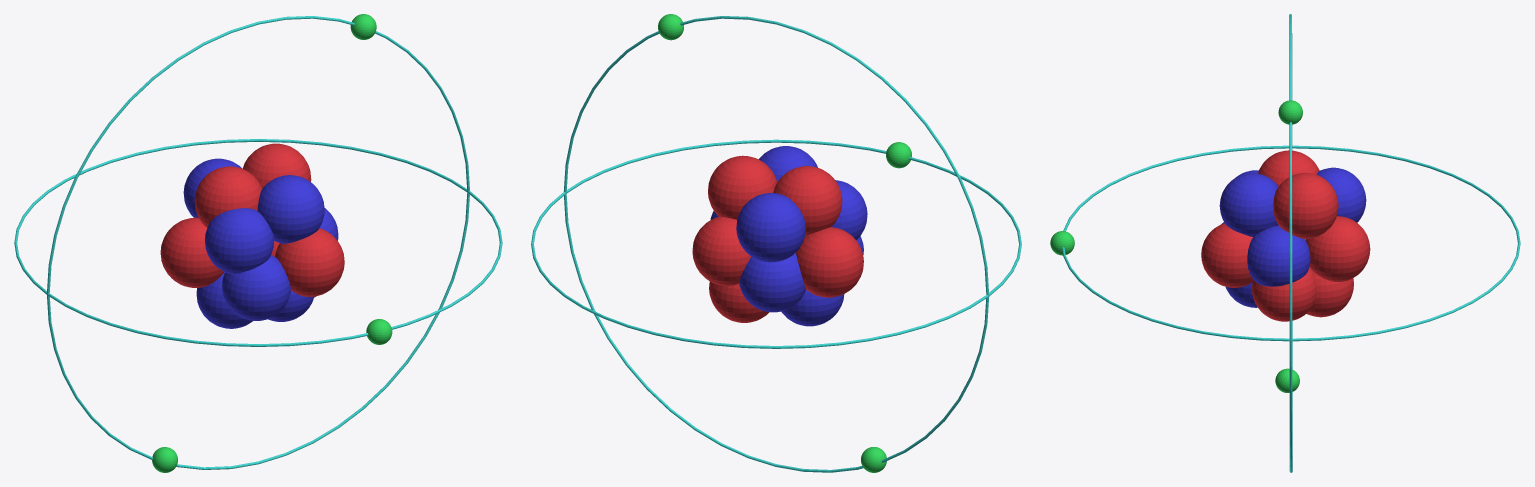
File: Lithiumatom.fbx
3 views of the same model, side by side, from view 1: azimuth 30°, elevation 25°; view 2: azimuth 150°, elevation 25°; view 3: azimuth 270°, elevation 25° (orthographic). The views are drawn at different scales.
Parts seen in each view (by area): view 1: Electron_path_001, Electron_path, Neutron_007, Neutron, Proton_005, Neutron_002, Proton_003, Proton_001, Proton_002, Neutron_005, Neutron_001, Neutron_006 (+3 smaller); view 2: Electron_path_001, Electron_path, Neutron_001, Proton_003, Proton_001, Proton_002, Proton_004, Neutron_003, Proton_006, Neutron_005, Neutron_007, Neutron (+3 smaller); view 3: Electron_path, Proton_002, Proton_004, Neutron_004, Neutron, Proton_005, Proton_007, Electron_path_001, Neutron_001, Proton_006, Proton_001, Electron_001.
Part boxes in pixels (x1=…): Electron_path_001: x1=47, y1=16, x2=469, y2=469; Electron_path: x1=14, y1=139, x2=502, y2=346; Neutron_007: x1=205, y1=208, x2=274, y2=273; Neutron: x1=257, y1=175, x2=324, y2=243; Proton_005: x1=275, y1=228, x2=344, y2=296; Neutron_002: x1=222, y1=255, x2=290, y2=320; Proton_003: x1=160, y1=217, x2=224, y2=287; Proton_001: x1=194, y1=166, x2=262, y2=227; Proton_002: x1=242, y1=143, x2=311, y2=188; Neutron_005: x1=196, y1=272, x2=252, y2=328; Neutron_001: x1=183, y1=158, x2=241, y2=217; Neutron_006: x1=268, y1=290, x2=313, y2=321; Electron_path_001: x1=563, y1=16, x2=989, y2=472; Electron_path: x1=531, y1=139, x2=1021, y2=348; Neutron_001: x1=736, y1=193, x2=805, y2=262; Proton_003: x1=796, y1=227, x2=863, y2=297; Proton_001: x1=773, y1=166, x2=842, y2=235; Proton_002: x1=708, y1=155, x2=777, y2=219; Proton_004: x1=692, y1=216, x2=751, y2=285; Neutron_003: x1=739, y1=252, x2=805, y2=312; Proton_006: x1=709, y1=281, x2=768, y2=322; Neutron_005: x1=781, y1=290, x2=844, y2=326; Neutron_007: x1=831, y1=180, x2=867, y2=240; Neutron: x1=759, y1=146, x2=817, y2=182; Electron_path: x1=1062, y1=145, x2=1520, y2=341; Proton_002: x1=1273, y1=172, x2=1338, y2=238; Proton_004: x1=1305, y1=216, x2=1370, y2=281; Neutron_004: x1=1247, y1=225, x2=1310, y2=286; Neutron: x1=1219, y1=173, x2=1278, y2=236; Proton_005: x1=1201, y1=223, x2=1253, y2=287; Proton_007: x1=1251, y1=267, x2=1316, y2=321; Electron_path_001: x1=1289, y1=14, x2=1292, y2=472; Neutron_001: x1=1316, y1=167, x2=1366, y2=222; Proton_006: x1=1306, y1=270, x2=1353, y2=317; Proton_001: x1=1258, y1=150, x2=1319, y2=186; Electron_001: x1=1278, y1=100, x2=1302, y2=124.
Size of the model in its own units: 0.0201 by 0.0201 by 0.0206.
